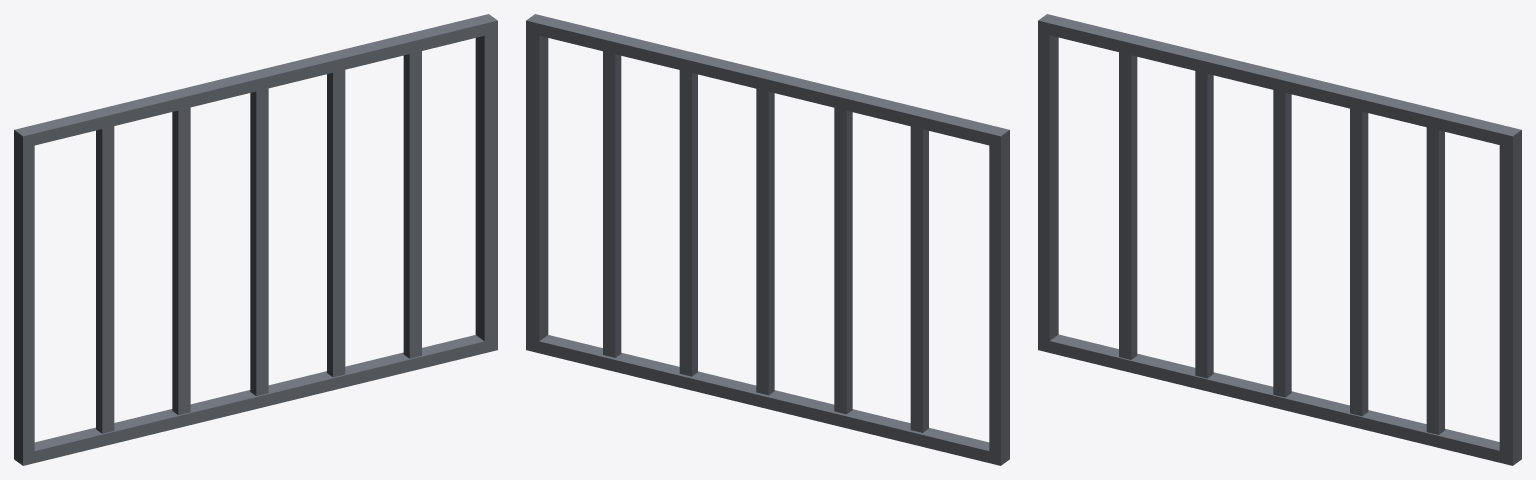
Rendered from AI_Prop_Barfence.fbx.
The picture shows the model from 3 angles, left to right: view 1: azimuth 30°, elevation 25°; view 2: azimuth 150°, elevation 25°; view 3: azimuth 330°, elevation 25°; orthographic projection.
Visible parts, largest first — view 1: AI_Prop_Barfence; view 2: AI_Prop_Barfence; view 3: AI_Prop_Barfence.
Part boxes in pixels (x1,y1,x2,y2): AI_Prop_Barfence: (14, 14, 497, 465); AI_Prop_Barfence: (526, 14, 1009, 465); AI_Prop_Barfence: (1038, 14, 1521, 465).
Bounding box in the file's own units: 5 × 3.32 × 0.164.
